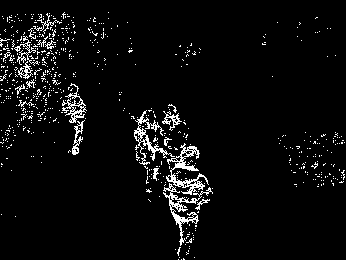person: (161, 144, 213, 260), (133, 107, 166, 203), (62, 83, 86, 156), (160, 103, 190, 156)
